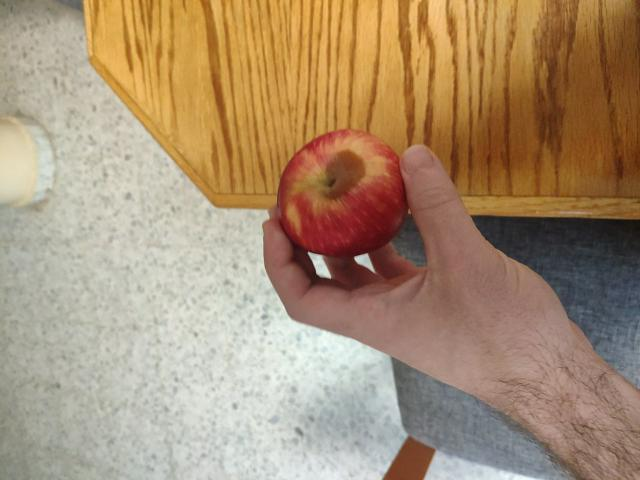apple: (270, 128, 424, 258)
